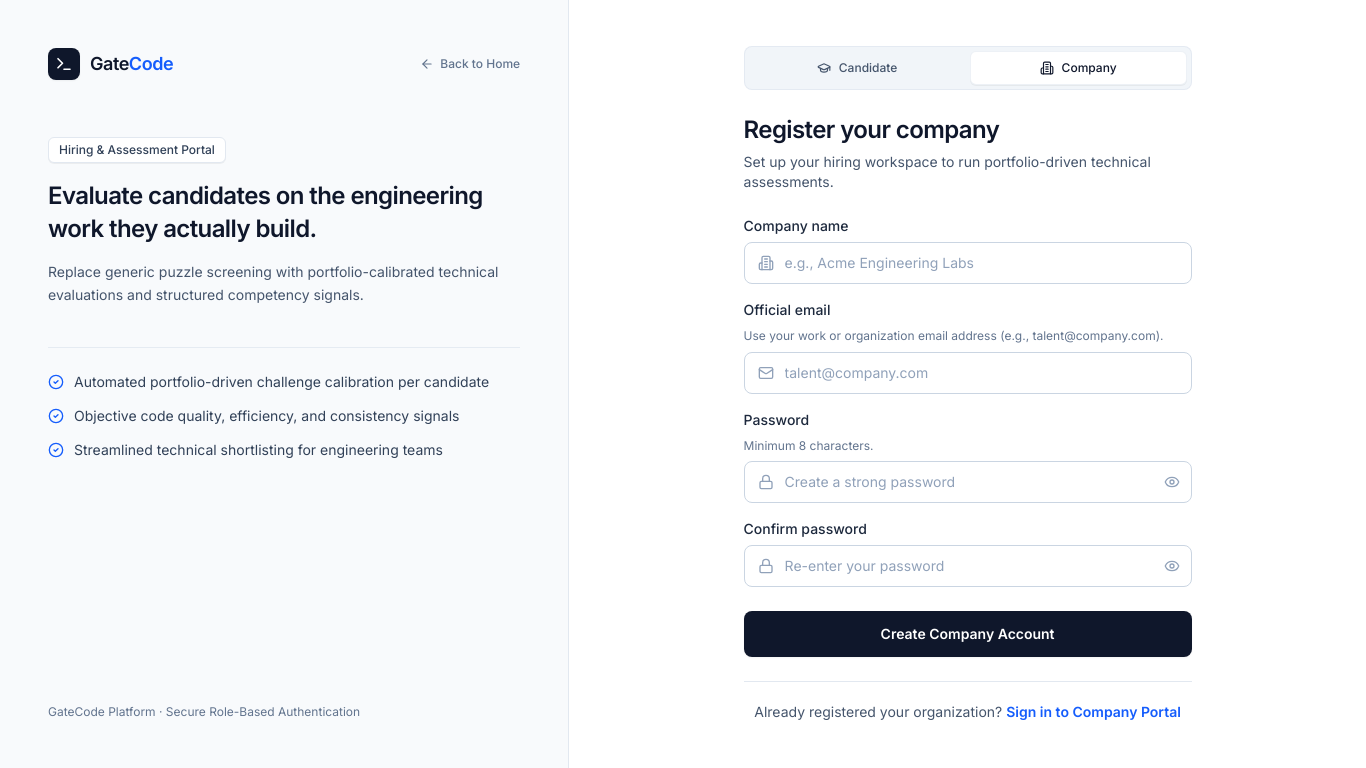
it: GateCode Frontend Authentication Module › detects password mismatch and supports show/hide password toggle
Type "Acme Corp" into the field labelled "Company name" at (968, 263), box [744, 242, 1192, 284]
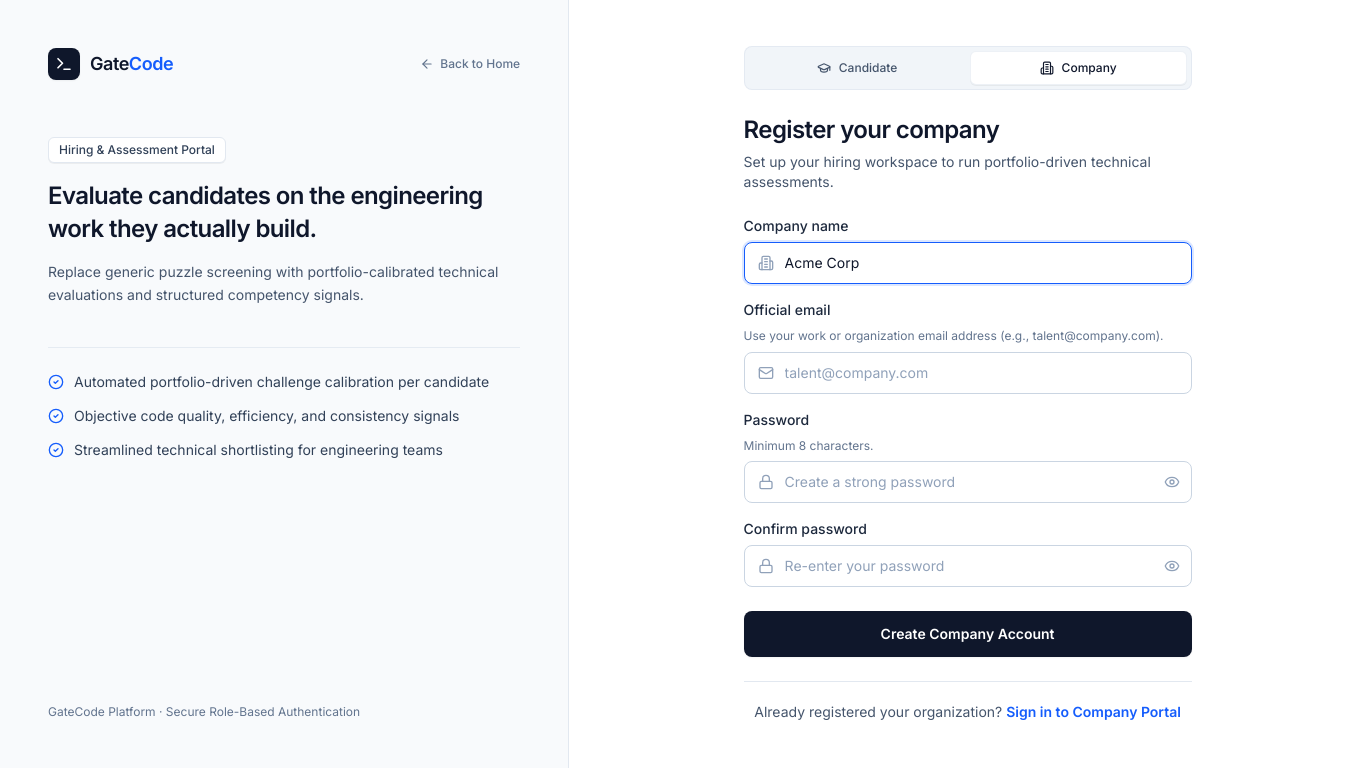
Type "hr@acmecorp.com" into the field labelled "Official email" at (968, 372), box [744, 352, 1192, 394]
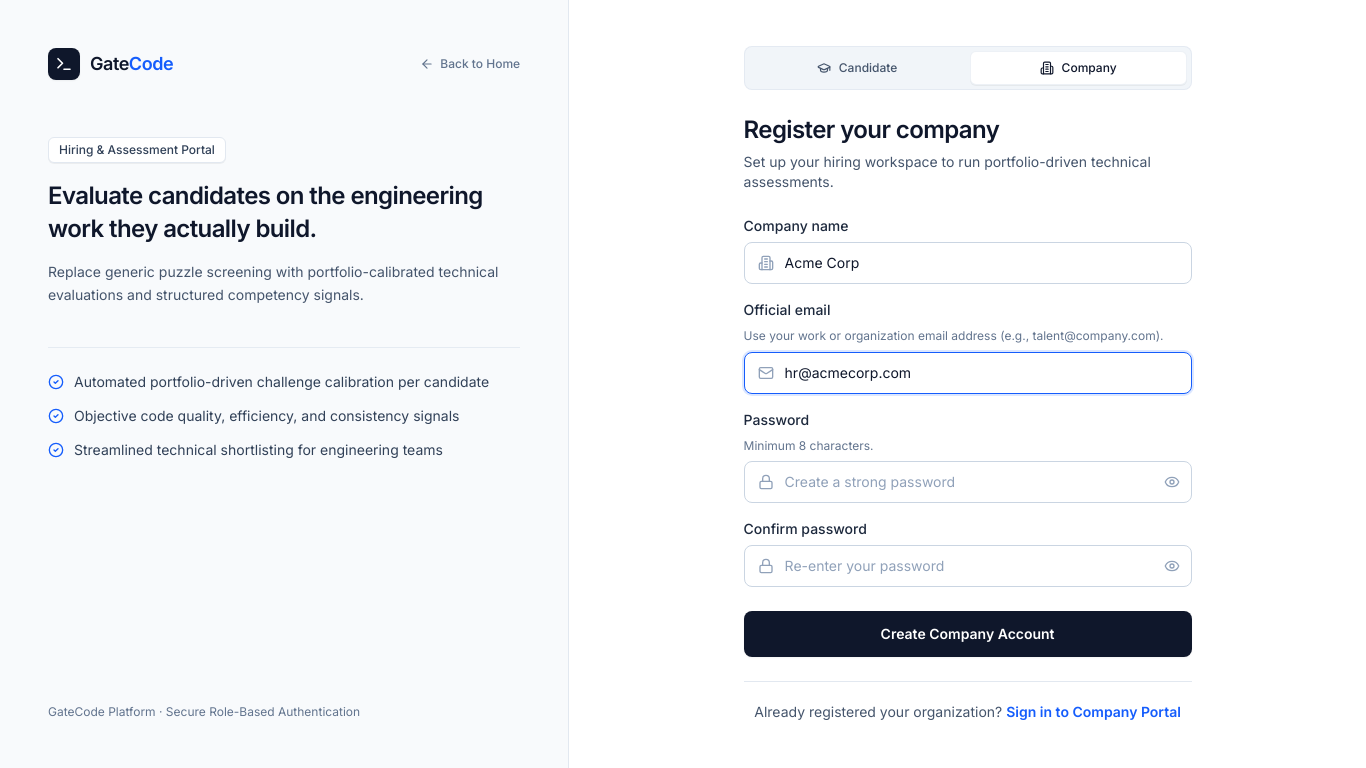
Toggle show password
Click the button named "show password" at (1178, 482), box [1164, 461, 1192, 503]
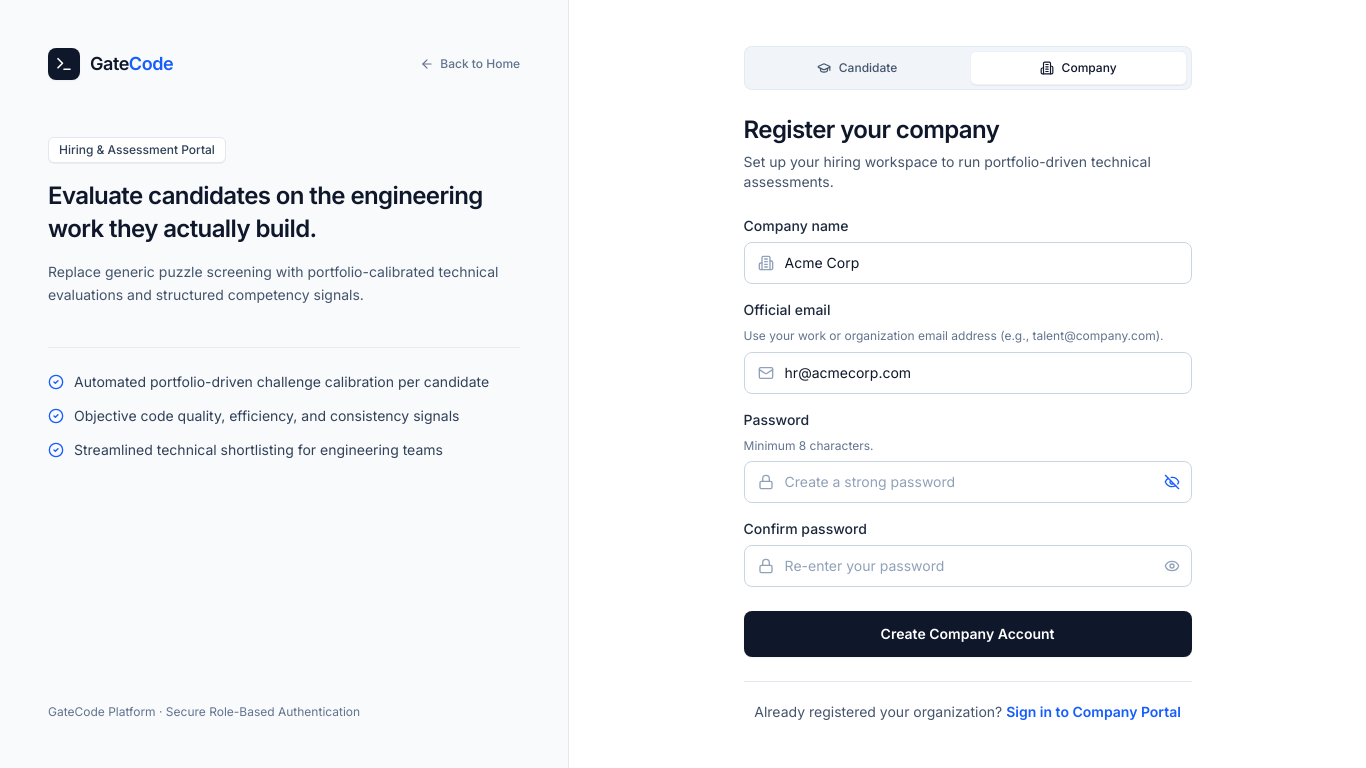
Type "SecurePass123" into the field labelled "Password" at (968, 482), box [744, 461, 1192, 503]
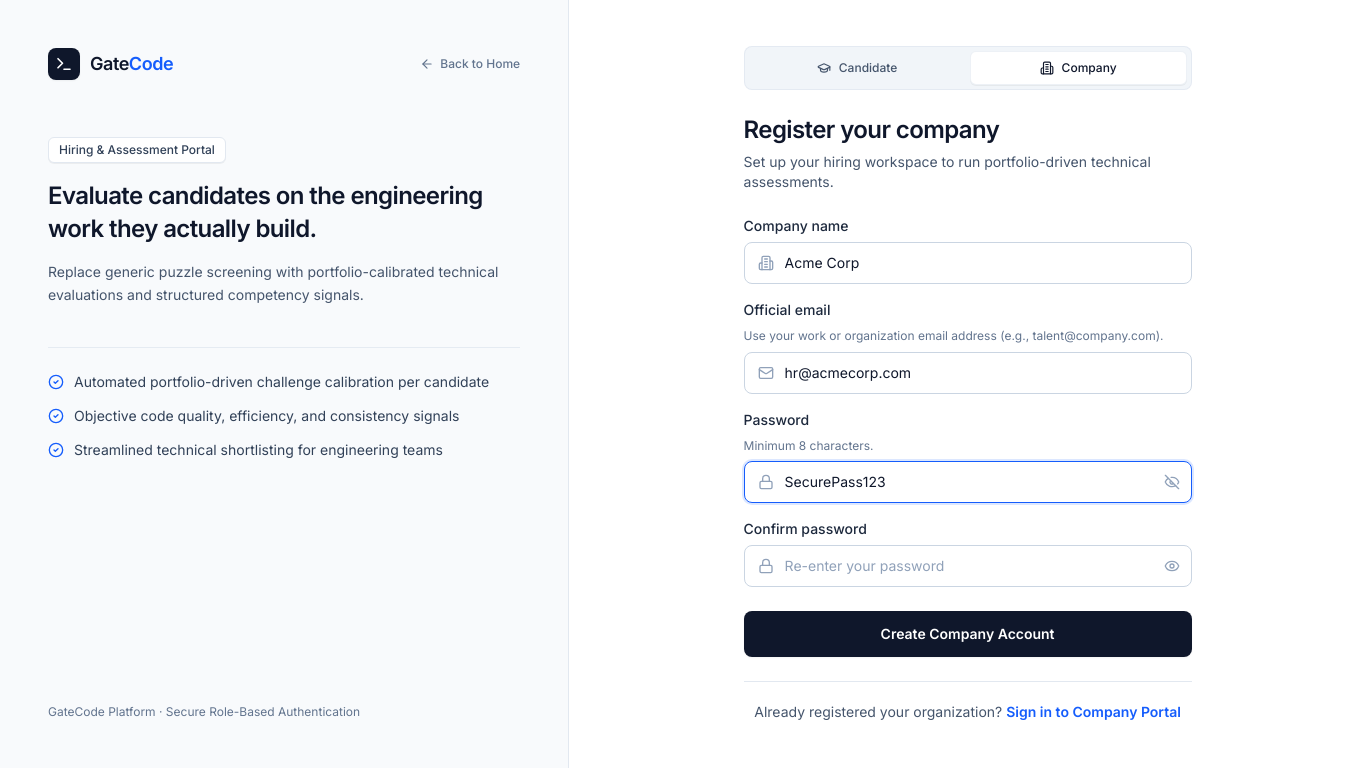
Type "DifferentPass123" into the password field labelled "Confirm password" at (968, 566), box [744, 545, 1192, 587]
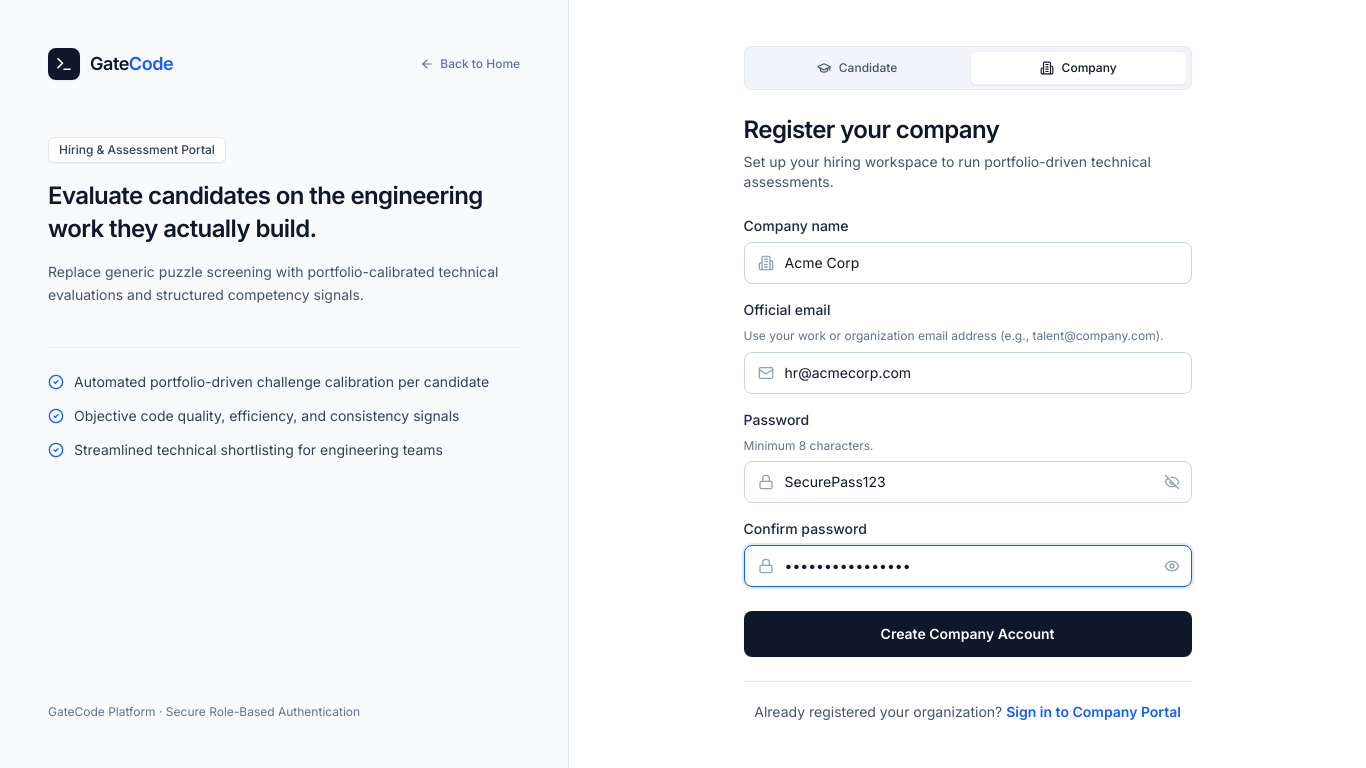
Click the button "Create Company Account" at (968, 634), box [744, 611, 1192, 657]
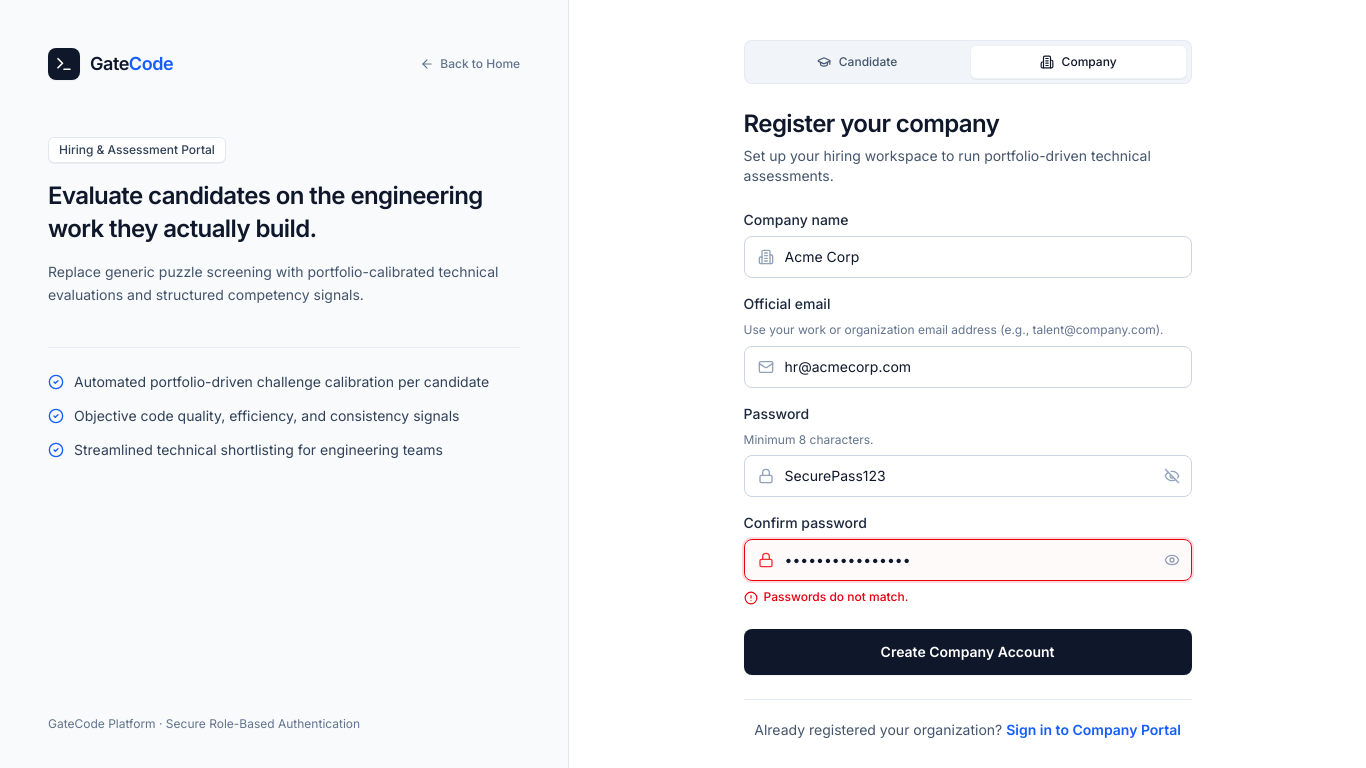
Result: the text "Passwords do not match." is shown at [764, 589, 908, 605]
